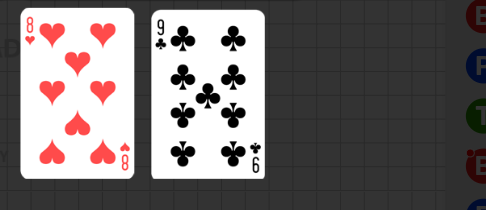9C: (247, 140, 262, 174), (153, 17, 167, 51)
